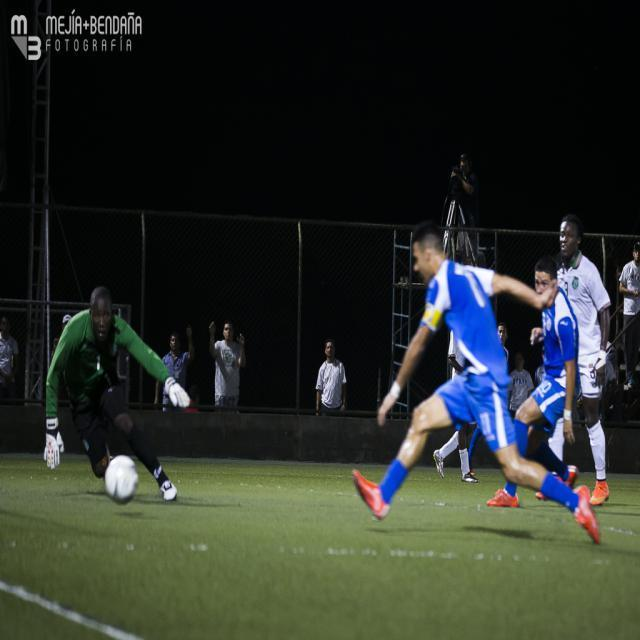football: (99, 453, 143, 510)
